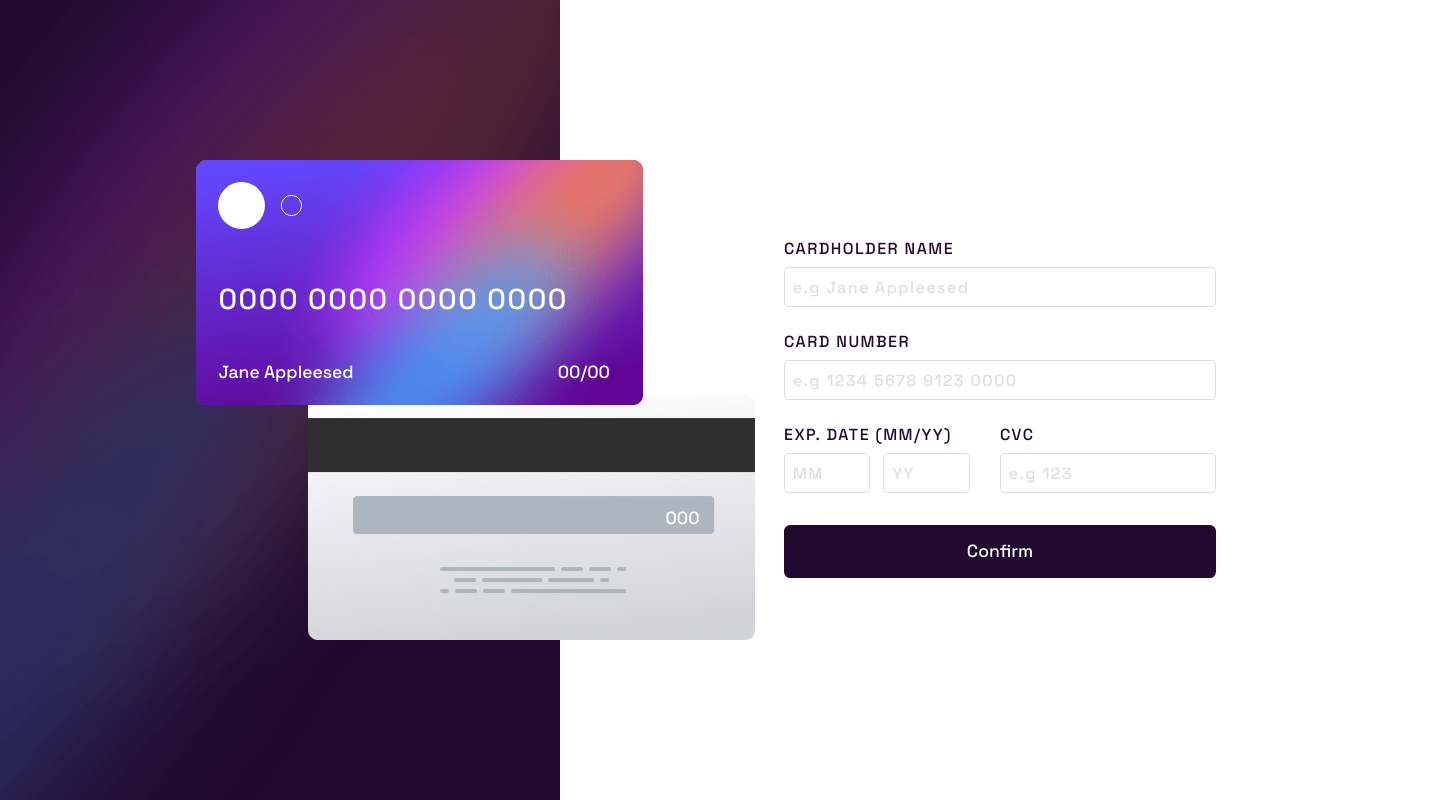
Test: Test form card input › test blank card input should show error (Cannot be blank)
Write input card input
Step 1. Type "Jane Appleased" into the field with placeholder "e.g Jane Appleesed" → coordinates (1000, 287), box [784,267,1216,307]
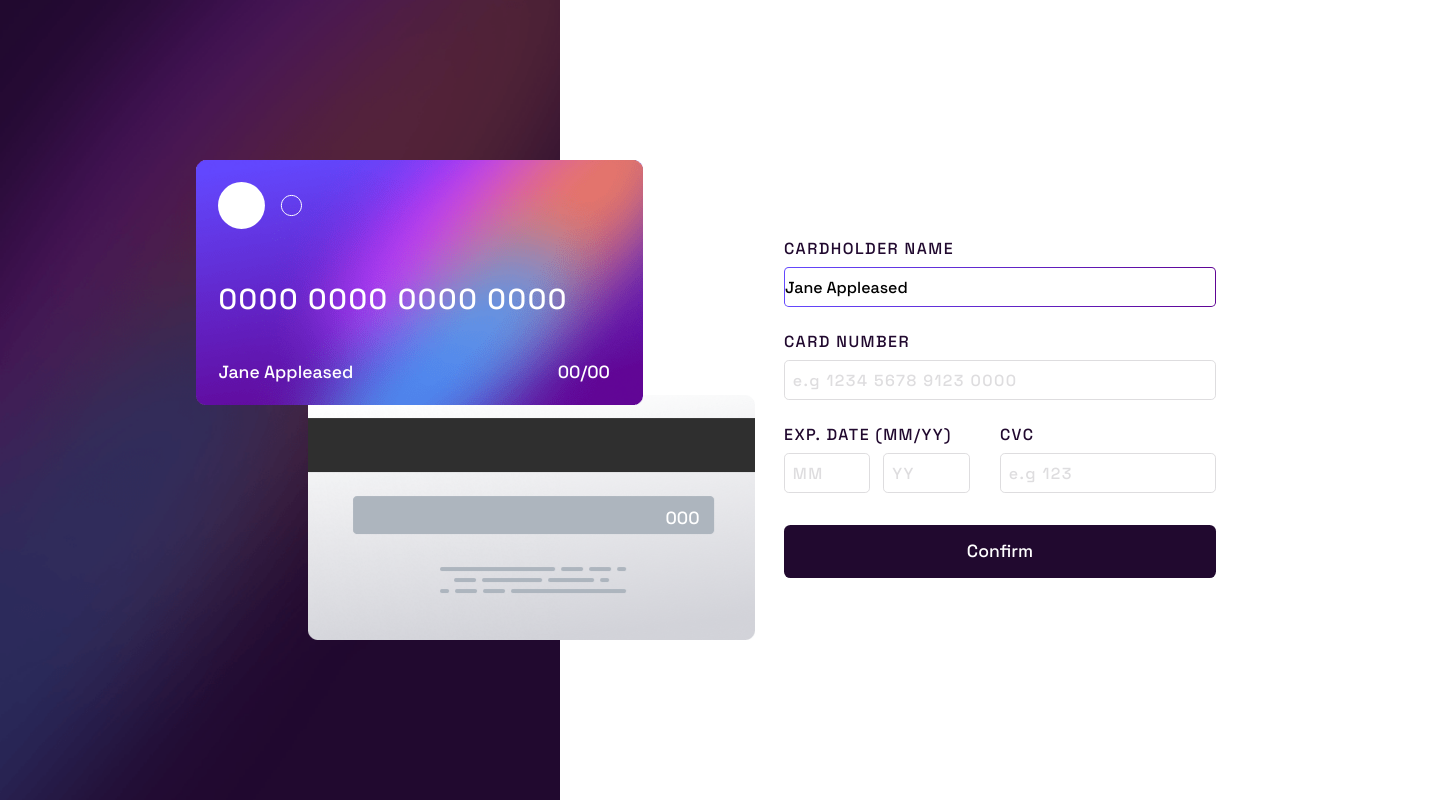
Write input MM
Step 2. Type "12" into the field with placeholder "MM" → coordinates (827, 473), box [784,453,870,493]
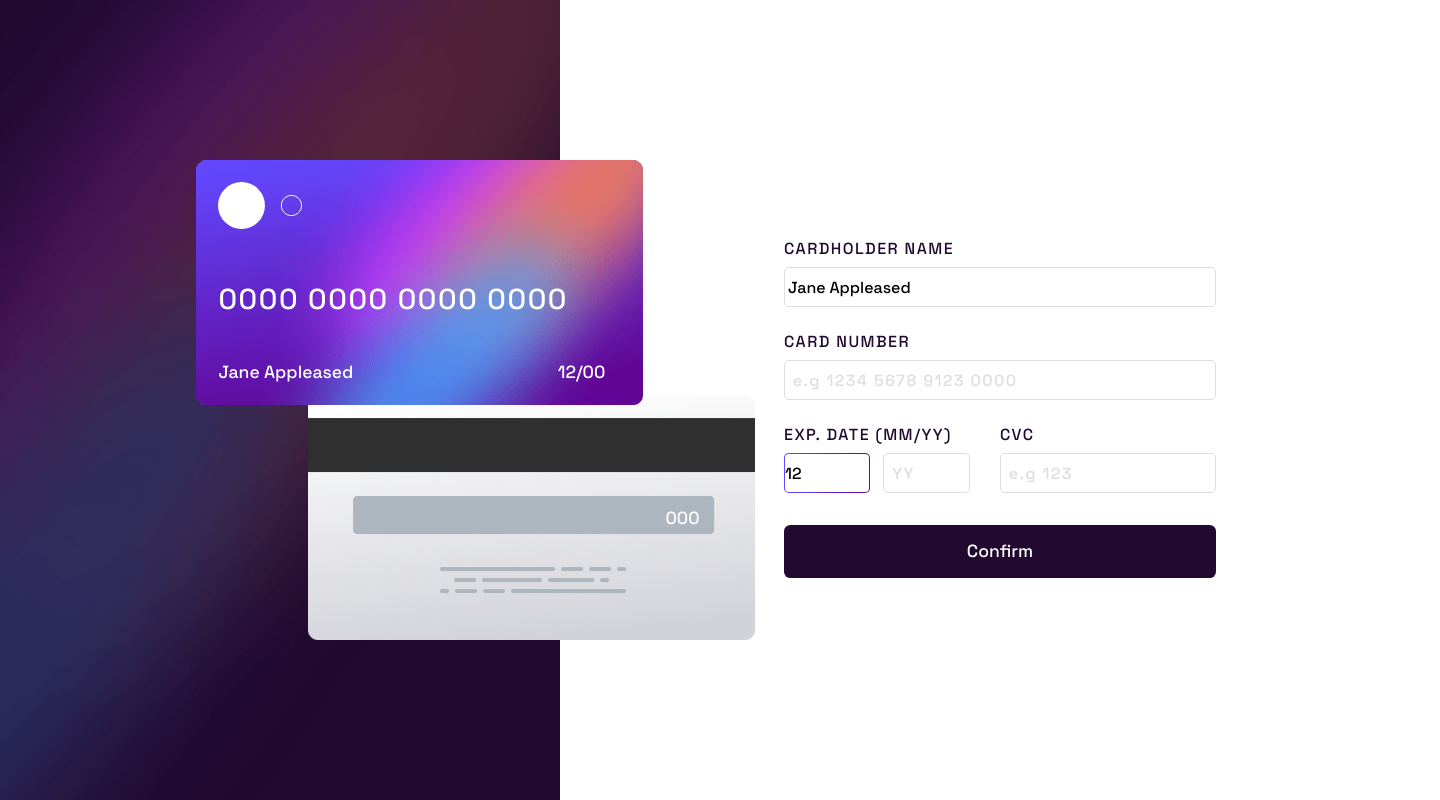
Write input YY
Step 3. Type "24" into the field with placeholder "YY" → coordinates (926, 473), box [883,453,969,493]
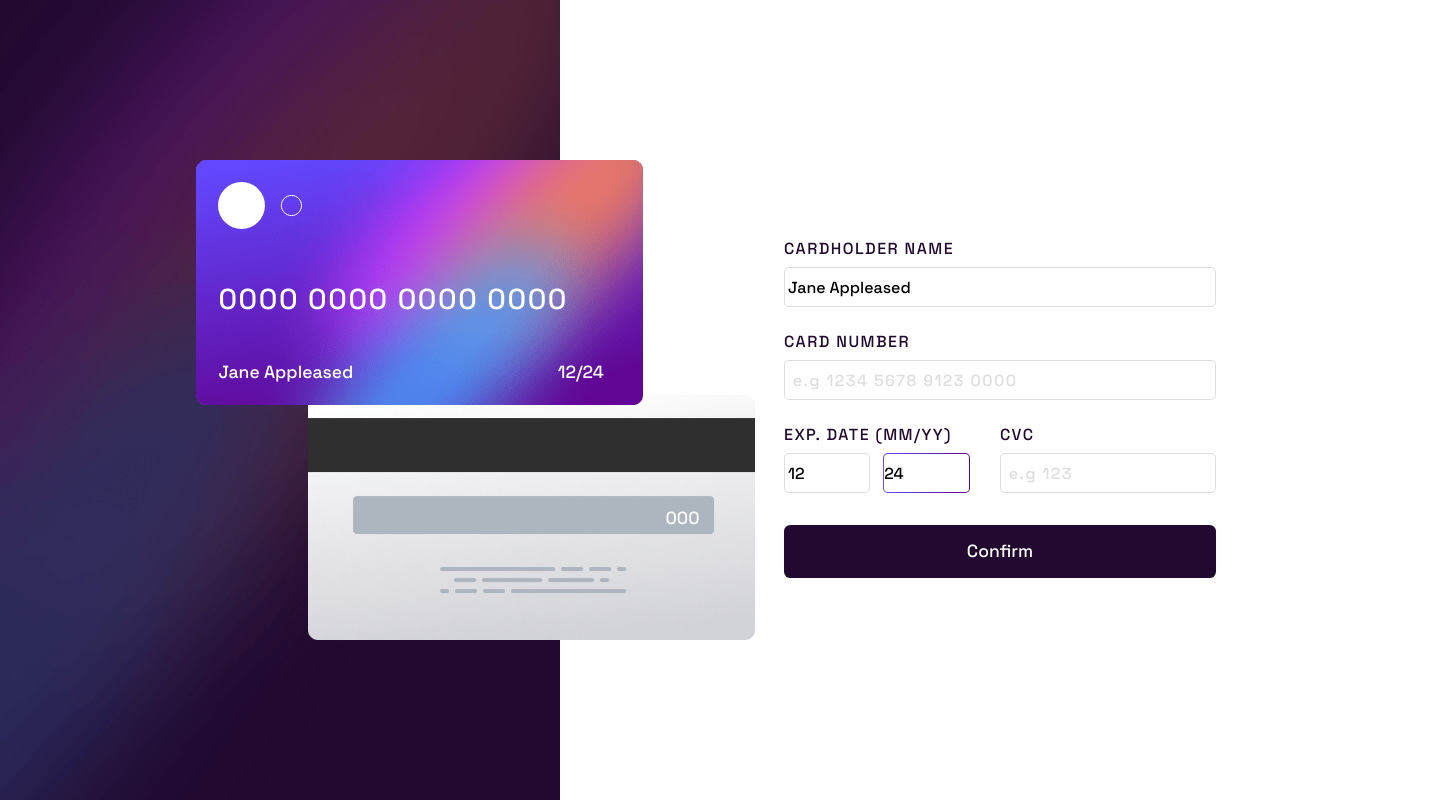
Write input CVC
Step 4. Type "123" into the field with placeholder "e.g 123" → coordinates (1108, 473), box [1000,453,1216,493]
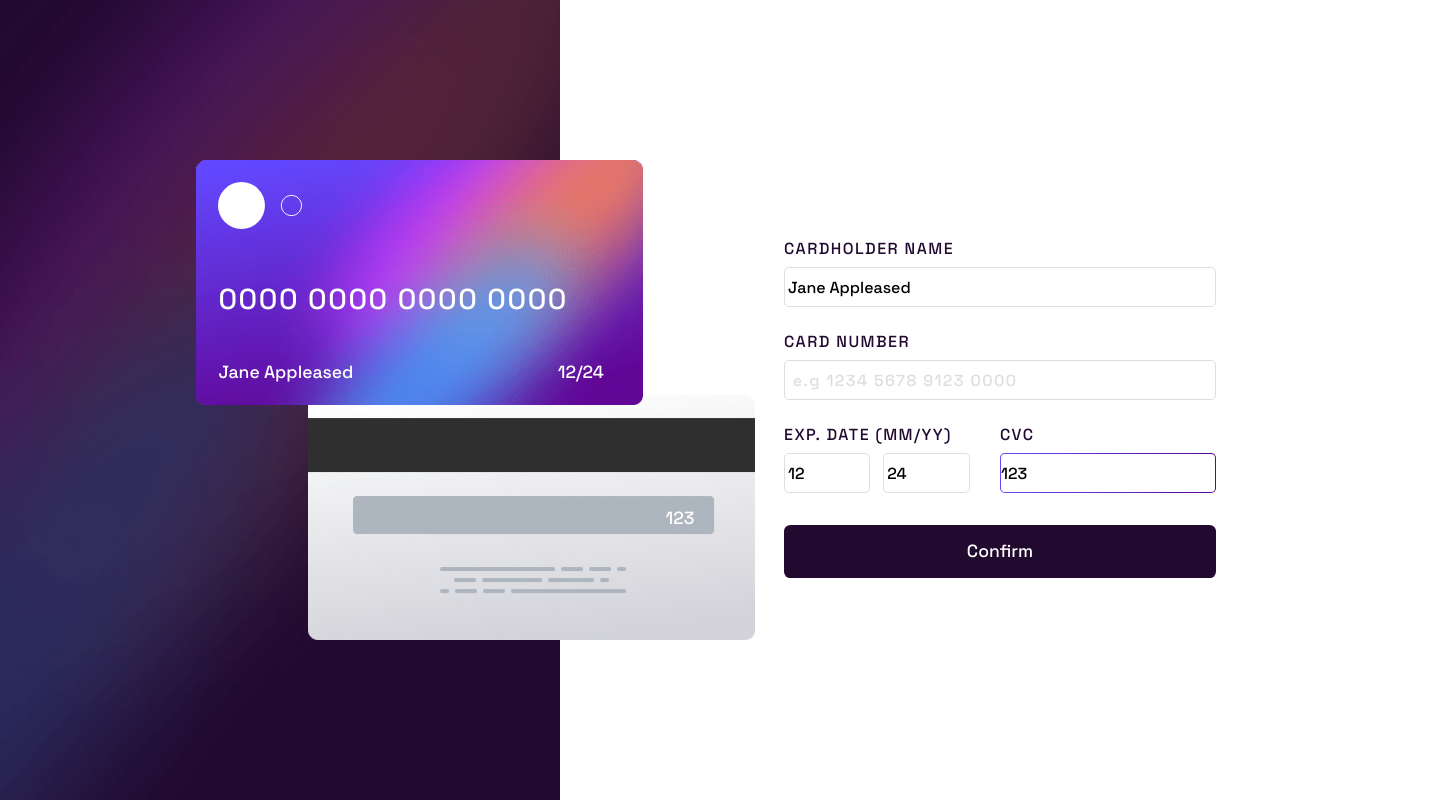
Step 5. Click the button with class "confirmation-btn" → coordinates (1000, 552), box [784,525,1216,578]
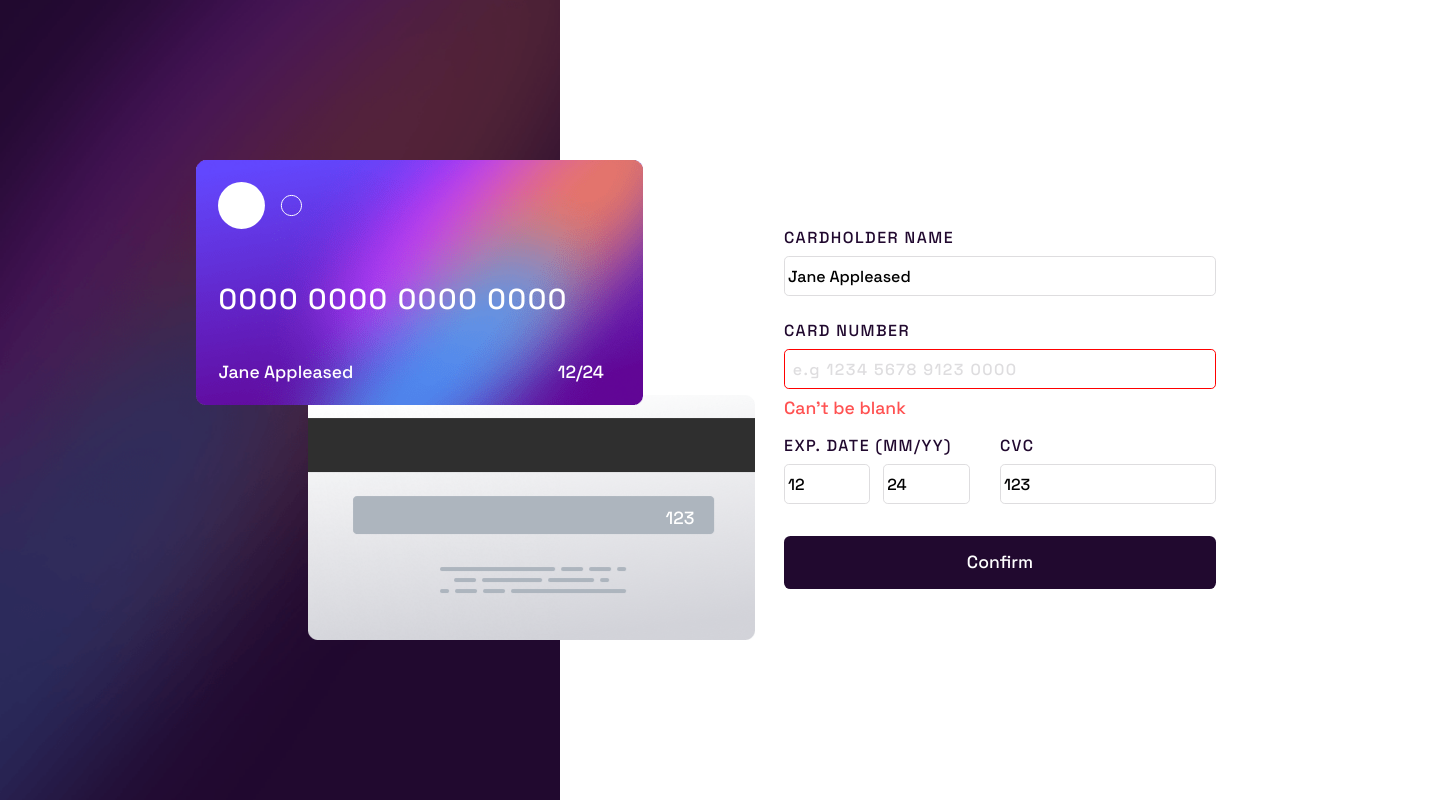
Check: the text "Can't be blank" is shown, box [784,397,906,419]
